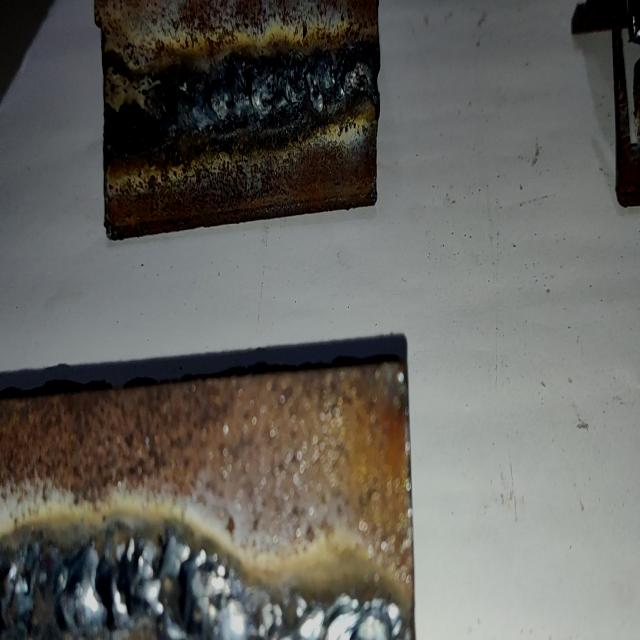Defect: (9, 536, 394, 640)
Good Weld: (174, 48, 376, 132)
